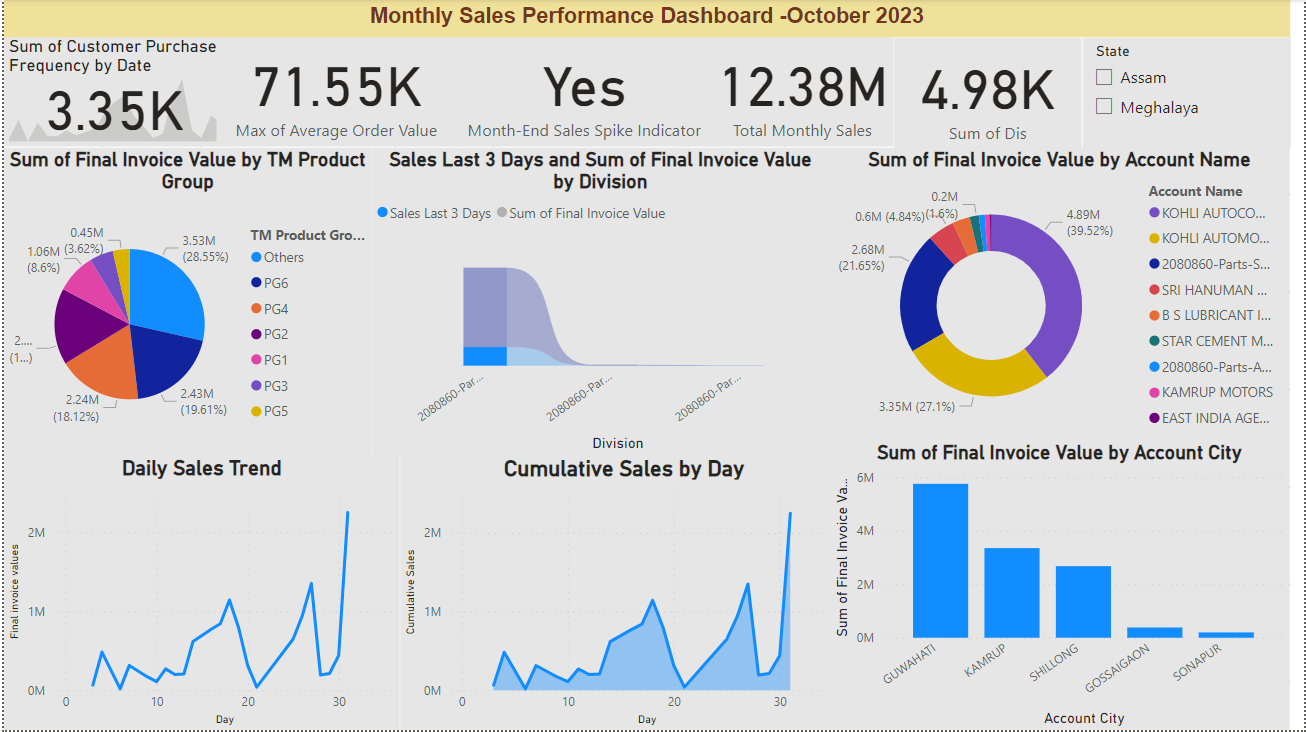

This screenshot's page, from the dashboard's own definition file:
{"tool":"powerbi","page":{"name":"Page 1","canvas":[1280,720],"ordinal":0},"visuals":[{"type":"kpi","fields":{"Indicator":["Sheet1.Customer Purchase Frequency"],"TrendLine":["Sheet1.Date"]},"box":[0,36.2,218.4,109.9],"z":0},{"type":"card","fields":{"Values":["Sheet1.Average Order Value"]},"box":[208.7,36.2,236.5,109.9],"z":1000},{"type":"lineChart","title":"Daily Sales Trend","fields":{"Category":["Sheet1.Date.Variation.Date Hierarchy.Day"],"Y":["Sheet1.Final Invoice Value"]},"box":[0,449.4,389.6,271.3],"z":2000},{"type":"card","fields":{"Values":["Sheet1.Total Monthly Sales"]},"box":[697,36.2,179.5,109.9],"z":4000},{"type":"pieChart","fields":{"Category":["Sheet1.TM Product Group"],"Y":["Sheet1.Final Invoice Value"]},"box":[0,146.1,361.7,304.7],"z":5000},{"type":"card","fields":{"Values":["Sheet1.Month-End Sales Spike Indicator"]},"box":[445.2,36.2,251.8,109.9],"z":6000},{"type":"card","fields":{"Values":["Sheet1.Dis"]},"box":[876.5,37.6,185,109.9],"z":7000},{"type":"areaChart","fields":{"Y":["Sheet1.Cumulative Sales"],"Category":["Sheet1.Date.Variation.Date Hierarchy.Day"]},"box":[389.6,449.4,441,271.3],"z":9000},{"type":"columnChart","fields":{"Y":["Sheet1.Final Invoice Value"],"Category":["Sheet1.Account City"]},"box":[812.5,435.5,453.6,285.2],"z":10000},{"type":"donutChart","fields":{"Y":["Sheet1.Final Invoice Value"],"Category":["Sheet1.Account Name"]},"box":[812.5,146.1,453.6,289.4],"z":10001},{"type":"ribbonChart","fields":{"Category":["Sheet1.Division"],"Y":["Sheet1.Sales Last 3 Days","Sheet1.Final Invoice Value"]},"box":[361.7,146.1,450.8,303.3],"z":10002},{"type":"slicer","fields":{"Values":["Sheet1.State"]},"box":[1061.6,37.6,204.5,108.5],"z":10003},{"type":"textbox","box":[0,0,1266.1,37.6],"z":10004}]}

Visuals, with their boxes in screenshot pixels (x1, y1, x2, y2), scaled from the page's 1280x720 canvas onto the 1306x732 screenshot:
kpi - Sheet1.Customer Purchase Frequency x Sheet1.Date: {"x1": 0, "y1": 37, "x2": 223, "y2": 149}
card - Sheet1.Average Order Value: {"x1": 213, "y1": 37, "x2": 454, "y2": 149}
"Daily Sales Trend" lineChart: {"x1": 0, "y1": 457, "x2": 398, "y2": 731}
card - Sheet1.Total Monthly Sales: {"x1": 711, "y1": 37, "x2": 894, "y2": 149}
pieChart - Sheet1.TM Product Group x Sheet1.Final Invoice Value: {"x1": 0, "y1": 149, "x2": 369, "y2": 458}
card - Sheet1.Month-End Sales Spike Indicator: {"x1": 454, "y1": 37, "x2": 711, "y2": 149}
card - Sheet1.Dis: {"x1": 894, "y1": 38, "x2": 1083, "y2": 150}
areaChart - Sheet1.Cumulative Sales x Sheet1.Date.Variation.Date Hierarchy.Day: {"x1": 398, "y1": 457, "x2": 847, "y2": 731}
columnChart - Sheet1.Final Invoice Value x Sheet1.Account City: {"x1": 829, "y1": 443, "x2": 1292, "y2": 731}
donutChart - Sheet1.Final Invoice Value x Sheet1.Account Name: {"x1": 829, "y1": 149, "x2": 1292, "y2": 443}
ribbonChart - Sheet1.Division x Sheet1.Sales Last 3 Days: {"x1": 369, "y1": 149, "x2": 829, "y2": 457}
slicer - Sheet1.State: {"x1": 1083, "y1": 38, "x2": 1292, "y2": 149}
textbox: {"x1": 0, "y1": 0, "x2": 1292, "y2": 38}
